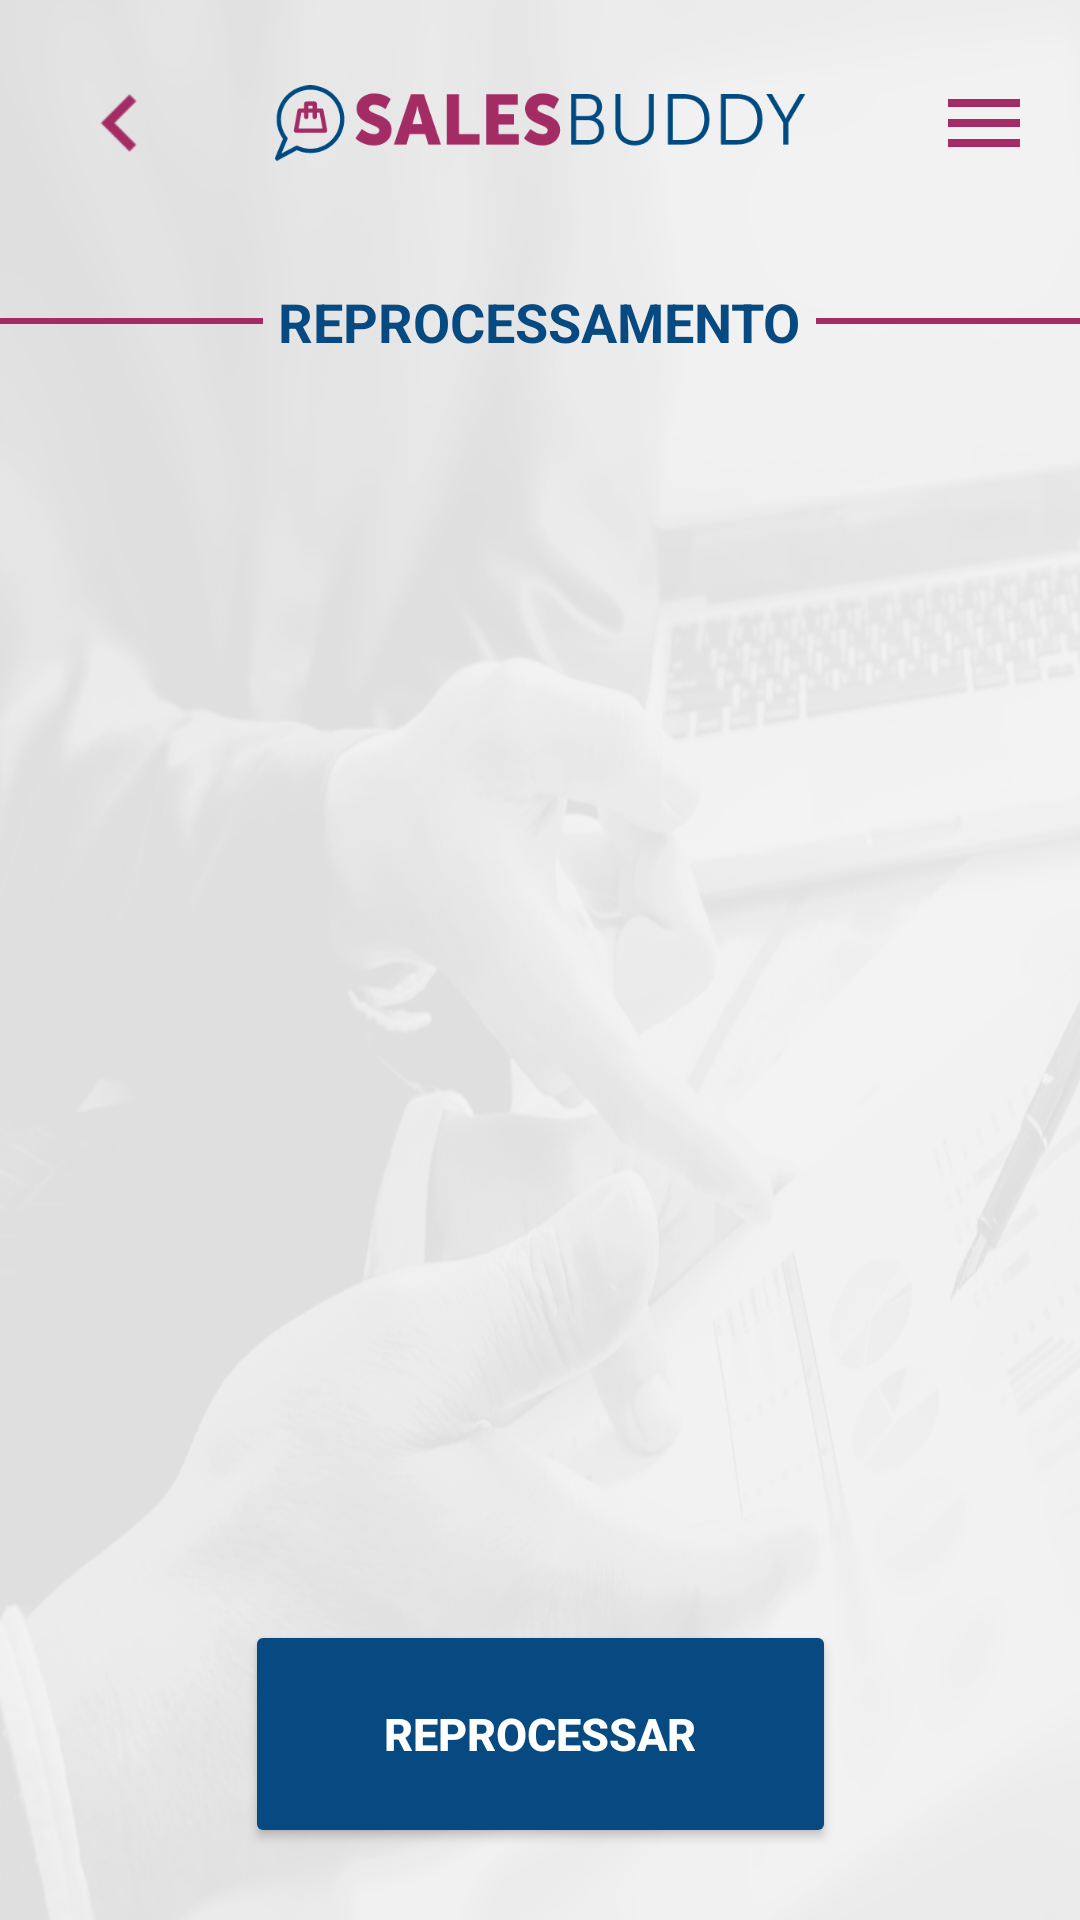

Named icons in this screenshot (1080×1920) and their centers, point (x, y):
back teste: point (118, 123)
menu: point (984, 123)
